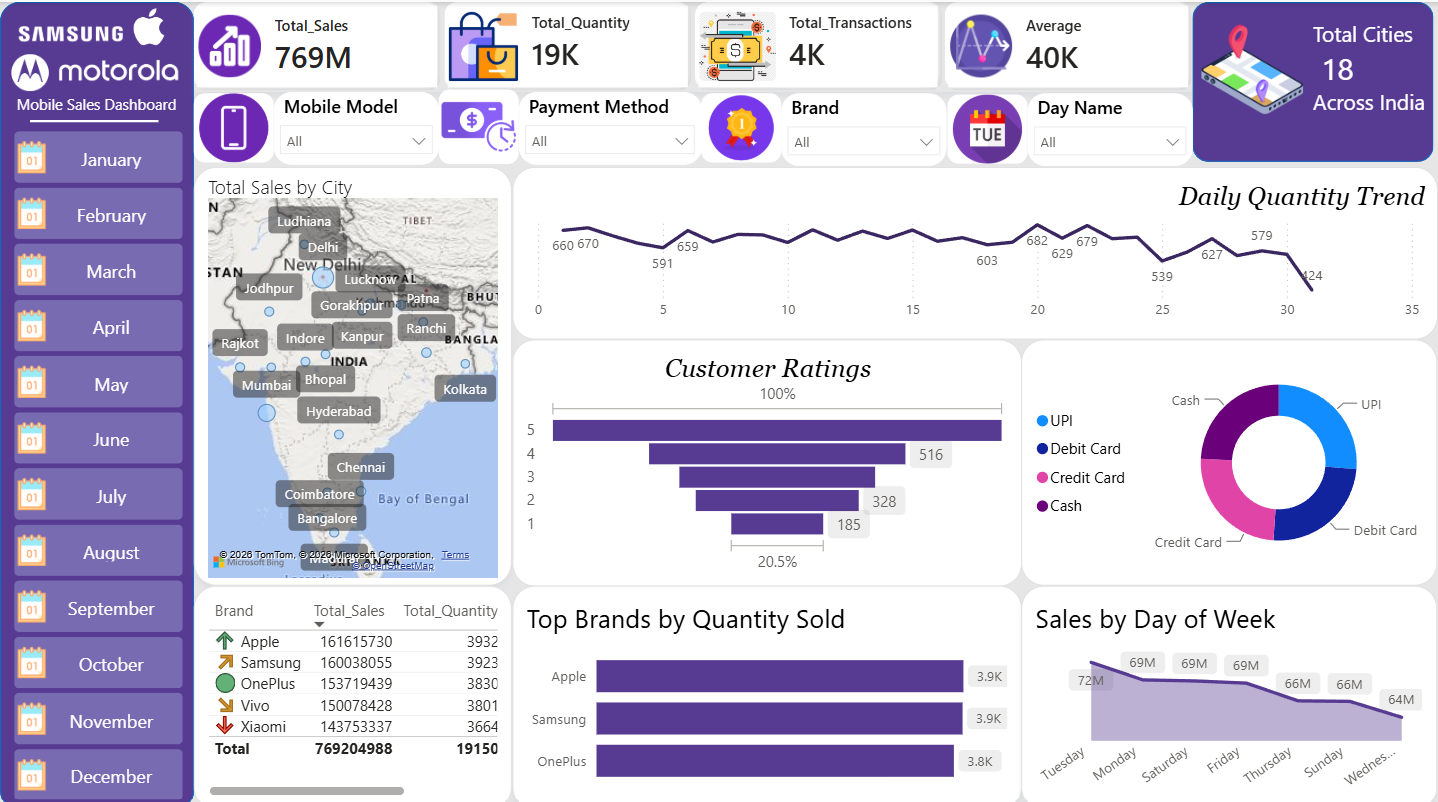

What the dashboard file says about the page in this screenshot:
{"tool":"powerbi","page":{"name":"Page 1","canvas":[1280,720],"ordinal":0},"visuals":[{"type":"shape","box":[0,0,172.9,720],"z":0},{"type":"image","box":[17.1,6.1,92.9,45.7],"z":1000},{"type":"image","box":[110.1,6.1,45.2,33],"z":2000},{"type":"image","box":[10,34.3,148.6,57.1],"z":3000},{"type":"textbox","box":[9.7,77.2,162.9,32.6],"z":4000},{"type":"advancedSlicerVisual","fields":{"Values":["SALES_DATA.Date.Variation.Date Hierarchy.Month"]},"box":[7.2,109.8,160.5,610.5],"z":5000},{"type":"cardVisual","fields":{"Data":["SALES_DATA.Total_Sales1","SALES_DATA.Total_Quantity","SALES_DATA.Total_Transactions","SALES_DATA.Average"]},"box":[172.5,0,892.8,79.6],"z":6000},{"type":"map","title":"Total Sales by City","fields":{"Category":["SALES_DATA.City"],"Size":["Sum(SALES_DATA.Total_sales)"]},"box":[172.5,147.2,283.5,372.8],"z":7000},{"type":"lineChart","title":"Daily Quantity Trend","fields":{"Category":["SALES_DATA.Date.Variation.Date Hierarchy.Year","SALES_DATA.Date.Variation.Date Hierarchy.Month","SALES_DATA.Date.Variation.Date Hierarchy.Day"],"Y":["SALES_DATA.Total_Quantity"]},"box":[456,147.2,824,153.2],"z":8000},{"type":"funnel","title":"Customer Ratings","fields":{"Category":["SALES_DATA.Customer Ratings"],"Y":["CountNonNull(SALES_DATA.Customer Ratings)"]},"box":[456.2,300.4,453.8,220],"z":9000},{"type":"donutChart","fields":{"Category":["SALES_DATA.Payment Method"],"Y":["SALES_DATA.Total_Transactions"]},"box":[909.7,300.4,370.4,219.6],"z":10000},{"type":"clusteredBarChart","title":"Top Brands by Quantity Sold","fields":{"Category":["SALES_DATA.Brand"],"Y":["SALES_DATA.Total_Quantity"]},"box":[456,520,453.8,200],"z":11000},{"type":"areaChart","title":"Sales by Day of Week","fields":{"Category":["SALES_DATA.Day Name"],"Y":["SALES_DATA.Total_Sales"]},"box":[909.7,520,370.4,200.3],"z":12000},{"type":"tableEx","fields":{"Values":["SALES_DATA.Brand","SALES_DATA.Total_Sales","SALES_DATA.Total_Quantity","SALES_DATA.Total_Transactions"]},"box":[172.5,520,283.5,200.3],"z":13000},{"type":"shape","box":[26.5,94.1,114.6,22.9],"z":14000},{"type":"slicer","fields":{"Values":["SALES_DATA.Mobile Model"]},"box":[243.7,79.6,147.2,65.1],"z":15000},{"type":"image","box":[172.5,80.8,71.2,61.5],"z":16000},{"type":"slicer","fields":{"Values":["SALES_DATA.Payment Method"]},"box":[462.1,79.6,162.9,65.1],"z":17000},{"type":"image","box":[390.9,78.4,71.2,66.4],"z":18000},{"type":"shape","box":[1061.7,0,214.7,142.4],"z":18500},{"type":"image","box":[624.9,80.8,71.2,61.5],"z":19000},{"type":"image","box":[843.3,82,71.2,61.5],"z":20000},{"type":"slicer","fields":{"Values":["SALES_DATA.Brand"]},"box":[696.1,80.8,147.2,65.1],"z":21000},{"type":"slicer","fields":{"Values":["SALES_DATA.Day Name"]},"box":[914.5,80.8,147.2,65.1],"z":23000},{"type":"image","box":[1030.3,9.7,168.9,100.1],"z":24500},{"type":"textbox","box":[1164.2,10.9,112.2,136.3],"z":26001}]}

Visuals, with their boxes in screenshot pixels (x1, y1, x2, y2), scaled from the page's 1280x720 canvas onto the 1438x802 screenshot:
shape: {"left": 0, "top": 0, "right": 194, "bottom": 801}
image: {"left": 19, "top": 7, "right": 124, "bottom": 58}
image: {"left": 124, "top": 7, "right": 174, "bottom": 44}
image: {"left": 11, "top": 38, "right": 178, "bottom": 102}
textbox: {"left": 11, "top": 86, "right": 194, "bottom": 122}
advancedSlicerVisual - SALES_DATA.Date.Variation.Date Hierarchy.Month: {"left": 8, "top": 122, "right": 188, "bottom": 801}
cardVisual - SALES_DATA.Total_Sales1 x SALES_DATA.Total_Quantity: {"left": 194, "top": 0, "right": 1197, "bottom": 89}
"Total Sales by City" map: {"left": 194, "top": 164, "right": 512, "bottom": 579}
"Daily Quantity Trend" lineChart: {"left": 512, "top": 164, "right": 1437, "bottom": 335}
"Customer Ratings" funnel: {"left": 513, "top": 335, "right": 1022, "bottom": 580}
donutChart - SALES_DATA.Payment Method x SALES_DATA.Total_Transactions: {"left": 1022, "top": 335, "right": 1437, "bottom": 579}
"Top Brands by Quantity Sold" clusteredBarChart: {"left": 512, "top": 579, "right": 1022, "bottom": 801}
"Sales by Day of Week" areaChart: {"left": 1022, "top": 579, "right": 1437, "bottom": 801}
tableEx - SALES_DATA.Brand x SALES_DATA.Total_Sales: {"left": 194, "top": 579, "right": 512, "bottom": 801}
shape: {"left": 30, "top": 105, "right": 159, "bottom": 130}
slicer - SALES_DATA.Mobile Model: {"left": 274, "top": 89, "right": 439, "bottom": 161}
image: {"left": 194, "top": 90, "right": 274, "bottom": 159}
slicer - SALES_DATA.Payment Method: {"left": 519, "top": 89, "right": 702, "bottom": 161}
image: {"left": 439, "top": 87, "right": 519, "bottom": 161}
shape: {"left": 1193, "top": 0, "right": 1434, "bottom": 159}
image: {"left": 702, "top": 90, "right": 782, "bottom": 159}
image: {"left": 947, "top": 91, "right": 1027, "bottom": 160}
slicer - SALES_DATA.Brand: {"left": 782, "top": 90, "right": 947, "bottom": 163}
slicer - SALES_DATA.Day Name: {"left": 1027, "top": 90, "right": 1193, "bottom": 163}
image: {"left": 1157, "top": 11, "right": 1347, "bottom": 122}
textbox: {"left": 1308, "top": 12, "right": 1434, "bottom": 164}
